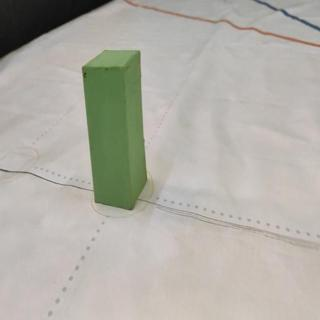greenbox: (80, 48, 148, 209)
